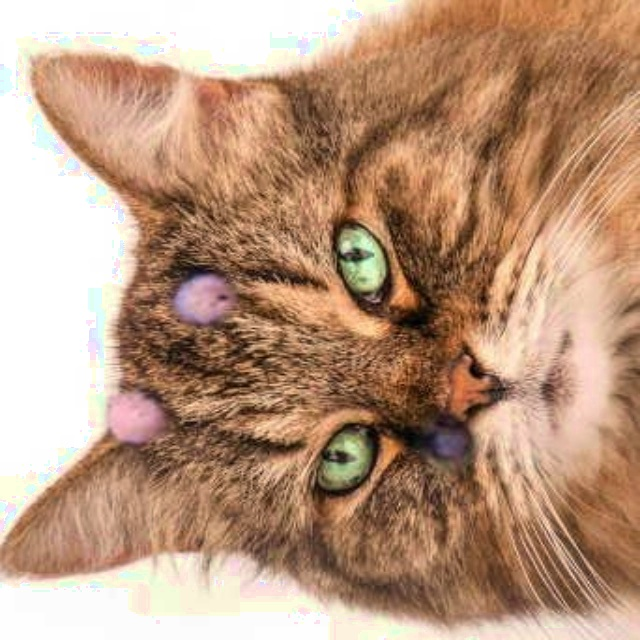lump_and_bump: (103, 391, 175, 443), (172, 278, 241, 320), (430, 419, 471, 457)
